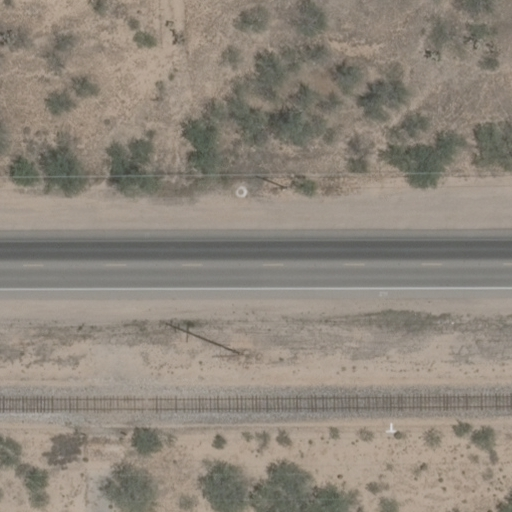DT: (159, 315, 248, 358), (252, 170, 290, 190)
